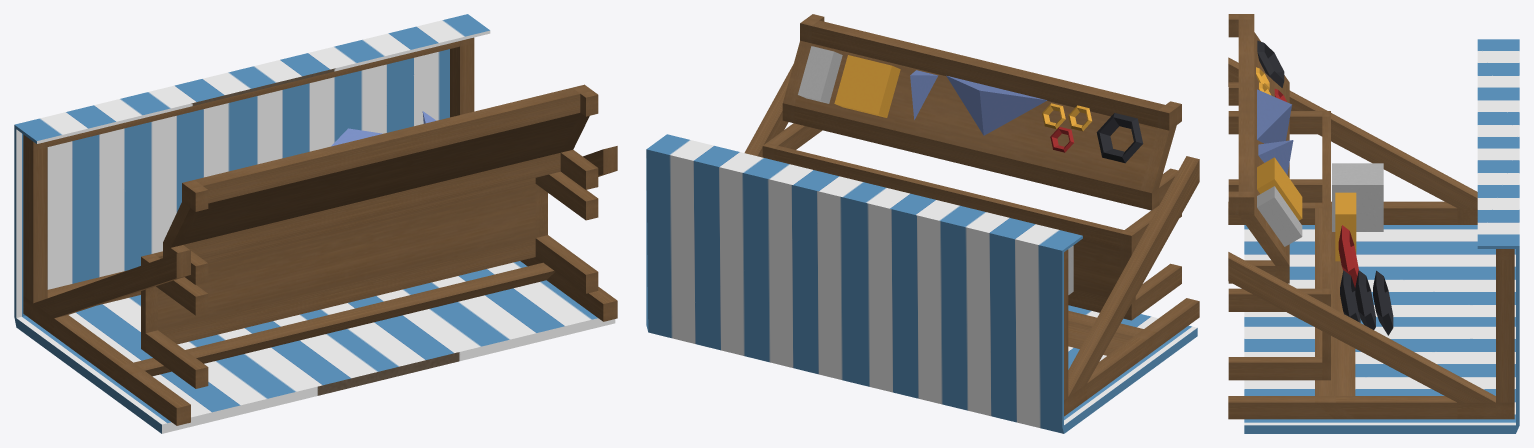
The model's file is all_share_store_2.FBX.
The picture shows the model from 3 angles, left to right: view 1: azimuth 30°, elevation 25°; view 2: azimuth 150°, elevation 25°; view 3: azimuth 270°, elevation 25°; orthographic projection. The views are drawn at different scales.
Parts seen in each view (by area): view 1: Cube.030; view 2: Cube.030; view 3: Cube.030.
Boxes of the visible parts, x1,y1,x2,y2 form: Cube.030: (14, 14, 617, 433); Cube.030: (646, 14, 1199, 433); Cube.030: (1228, 14, 1519, 433).
Size of the model in its own units: 252 by 128 by 150.
